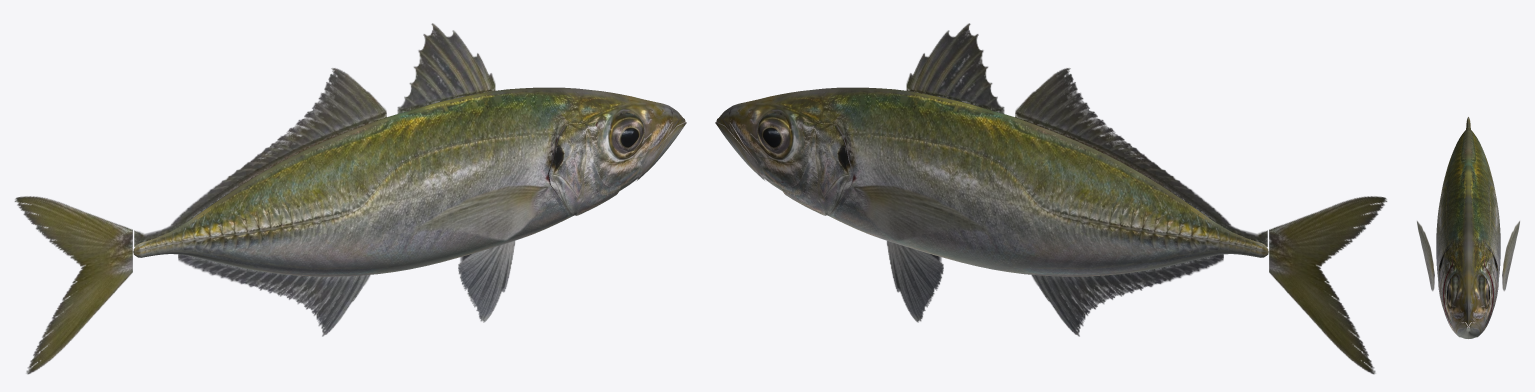
Rendered from aji.glb.
3 renders of one model, left to right at view 1: azimuth 30°, elevation 25°; view 2: azimuth 150°, elevation 25°; view 3: azimuth 270°, elevation 25°, orthographic. The views are drawn at different scales.
Visible parts, largest first — view 1: aji; view 2: aji; view 3: aji.
Boxes of the visible parts, x1=… form: aji: x1=14, y1=23, x2=686, y2=374; aji: x1=715, y1=23, x2=1387, y2=374; aji: x1=1417, y1=117, x2=1519, y2=338.
Size of the model in its own units: 0.2506 by 0.1112 by 0.0448.
1 material, 1 textured.
